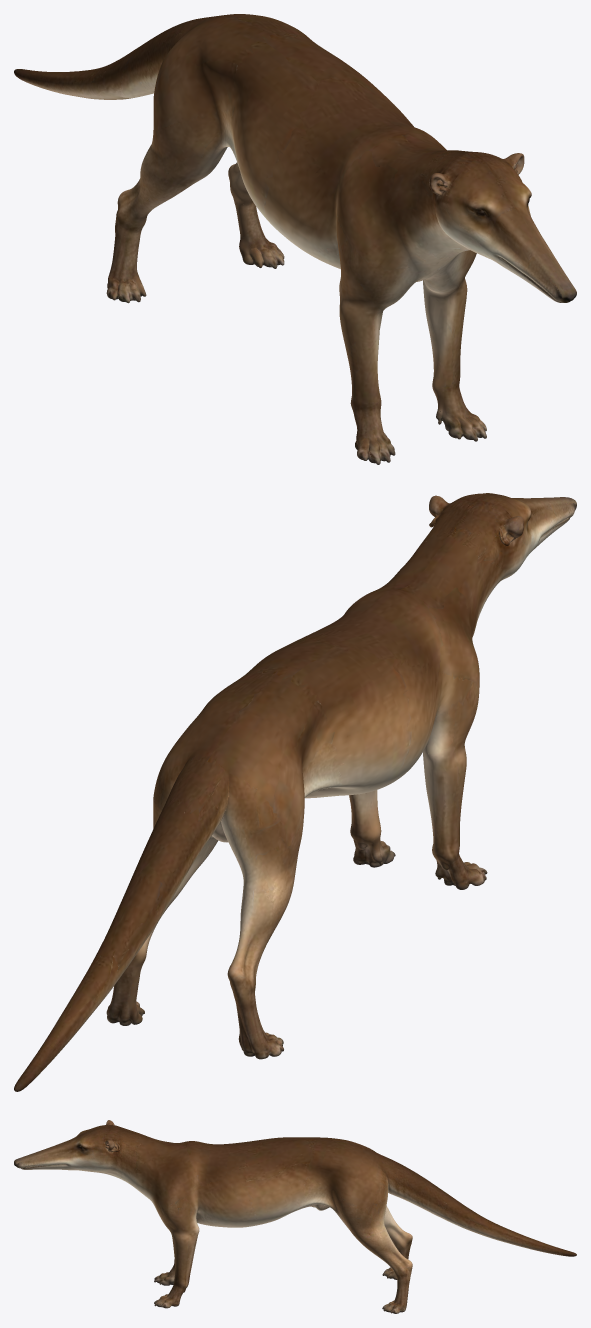
The picture shows the model from 3 angles, top to bottom: view 1: azimuth 30°, elevation 25°; view 2: azimuth 150°, elevation 25°; view 3: azimuth 270°, elevation 25°; orthographic projection. The views are drawn at different scales.
Visible parts, largest first — view 1: Authored orientation; view 2: Authored orientation; view 3: Authored orientation.
Boxes of the visible parts, x1,y1,x2,y2 form: Authored orientation: (14,14,576,464); Authored orientation: (14,493,576,1091); Authored orientation: (14,1120,576,1313).
Bounding box in the file's own units: 0.1791 × 0.3254 × 1.
1 material, 1 textured.
